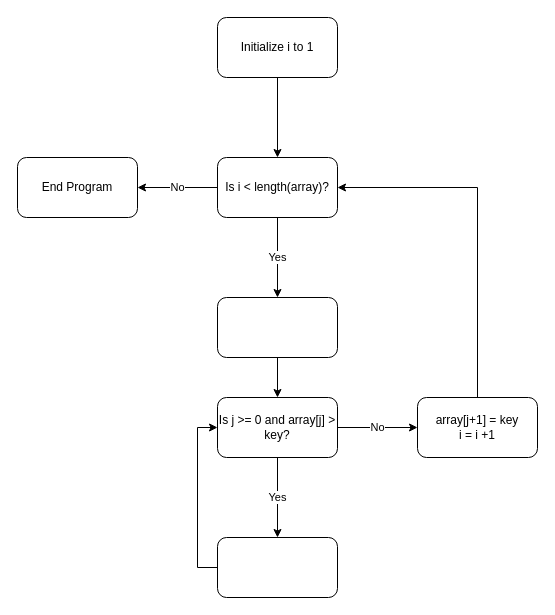
Image size: 555x615. Some labels were removed from this diagram. Here are the shapes that lost their labels. From the top down, the centre of each, then its label:
At point 277,327: "Set key = array[i] Set j = i - 1".
At point 277,567: "array[j+1] = array[j] j = j - 1".
